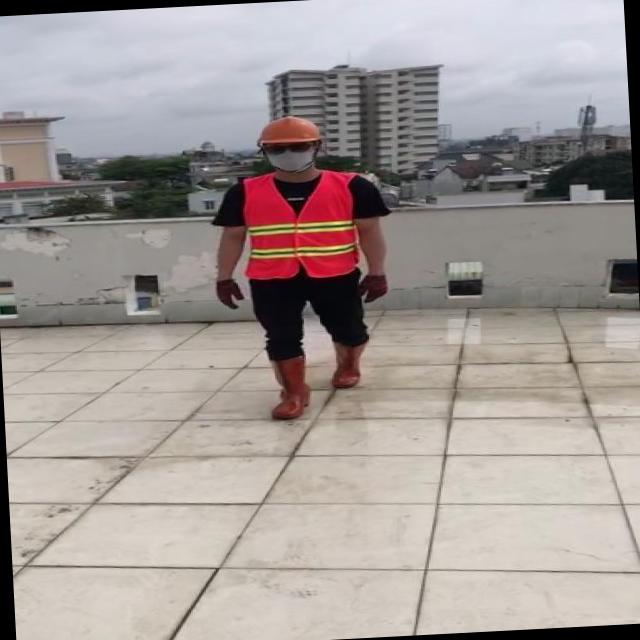boots: (267, 352, 311, 421), (330, 338, 375, 388)
gloves: (356, 272, 392, 303), (214, 277, 243, 311)
helmet: (252, 113, 324, 147)
vest: (241, 170, 362, 281)
